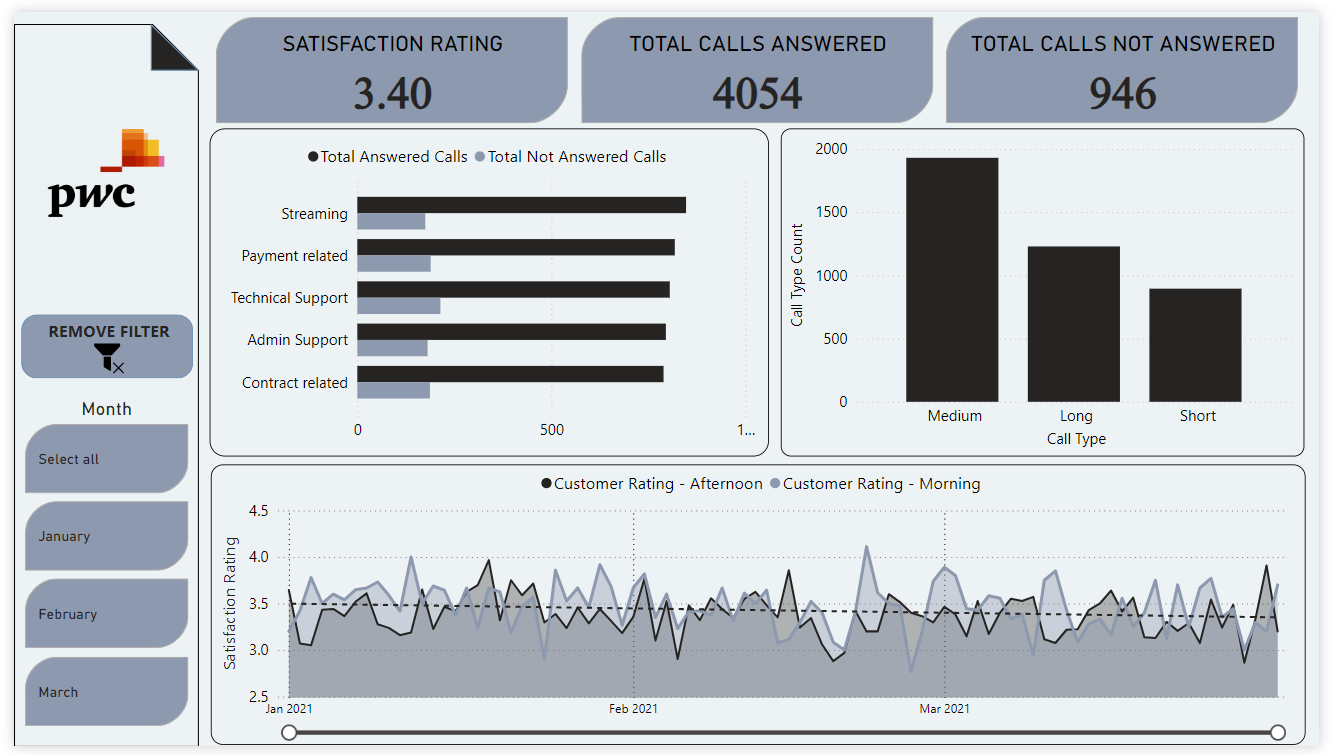

The page's visual inventory and layout, read from the dashboard file:
{"tool":"powerbi","page":{"name":"Call Overview","canvas":[1280,720],"ordinal":0},"visuals":[{"type":"shape","box":[0,11.4,181.3,708.7],"z":0},{"type":"shape","box":[133.9,11.4,47.4,45.7],"z":1000},{"type":"cardVisual","fields":{"Data":["Call Center Data.Overall Customer Satisfaction","Call Center Data.Total Answered Calls","Call Center Data.Total Not Answered Calls"]},"box":[192.7,0,1072.9,114.3],"z":2000},{"type":"clusteredBarChart","fields":{"Category":["Call Center Data.Topic"],"Y":["Call Center Data.Total Answered Calls","Call Center Data.Total Not Answered Calls"]},"box":[192.3,113.8,548.5,322],"z":3000},{"type":"columnChart","fields":{"Category":["Call Center Data.Call Type"],"Y":["Call Center Data.Total Calls"]},"box":[752.2,113.8,513.2,322],"z":4000},{"type":"areaChart","fields":{"Y":["Call Center Data.Customer Rating Afternoon","Call Center Data.Customer Rating Morning"],"Category":["Call Center Data.Call Date.Variation.Date Hierarchy.Year"]},"box":[193.5,443.8,1073.1,275.4],"z":5000},{"type":"advancedSlicerVisual","fields":{"Values":["Call Center Data.Month"]},"box":[5.7,327.6,170.1,378.2],"z":6000},{"type":"image","box":[1.2,48.8,181.2,186.2],"z":7000}]}

Visuals, with their boxes in screenshot pixels (x1, y1, x2, y2), scaled from the page's 1280x720 canvas onto the 1333x755 screenshot:
shape: pyautogui.locateOnScreen(0, 12, 189, 754)
shape: pyautogui.locateOnScreen(139, 12, 189, 60)
cardVisual - Call Center Data.Overall Customer Satisfaction x Call Center Data.Total Answered Calls: pyautogui.locateOnScreen(201, 0, 1318, 120)
clusteredBarChart - Call Center Data.Topic x Call Center Data.Total Answered Calls: pyautogui.locateOnScreen(200, 119, 771, 457)
columnChart - Call Center Data.Call Type x Call Center Data.Total Calls: pyautogui.locateOnScreen(783, 119, 1318, 457)
areaChart - Call Center Data.Customer Rating Afternoon x Call Center Data.Customer Rating Morning: pyautogui.locateOnScreen(202, 465, 1319, 754)
advancedSlicerVisual - Call Center Data.Month: pyautogui.locateOnScreen(6, 344, 183, 740)
image: pyautogui.locateOnScreen(1, 51, 190, 246)
